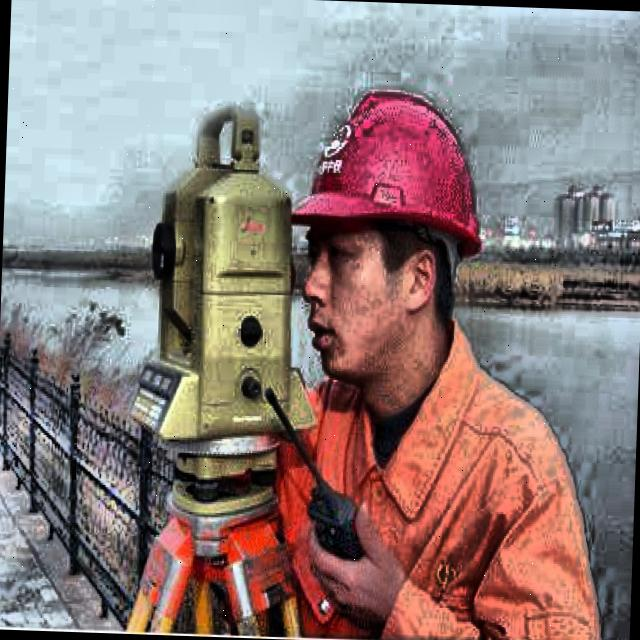helmet: (269, 61, 512, 426)
